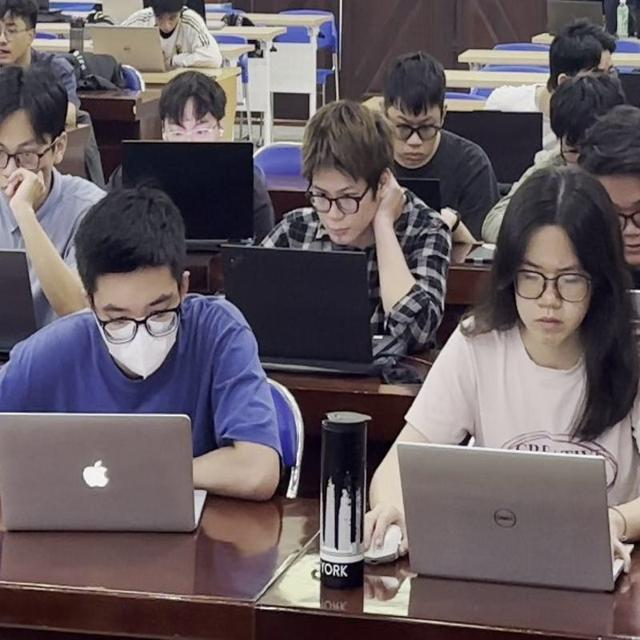Looking away: (502, 153, 619, 360), (72, 199, 188, 378), (295, 97, 398, 249), (0, 55, 72, 219), (584, 111, 640, 270), (376, 57, 449, 176), (154, 63, 231, 155), (0, 0, 44, 54), (138, 0, 193, 43)
